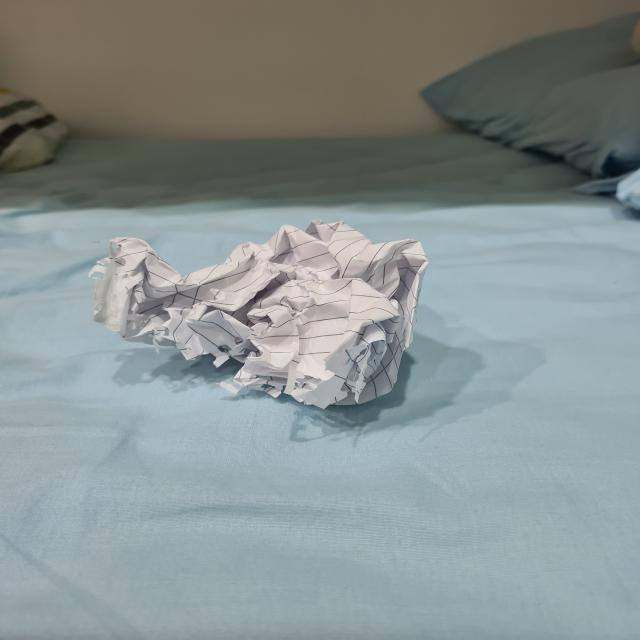Paper: (104, 220, 421, 413)
